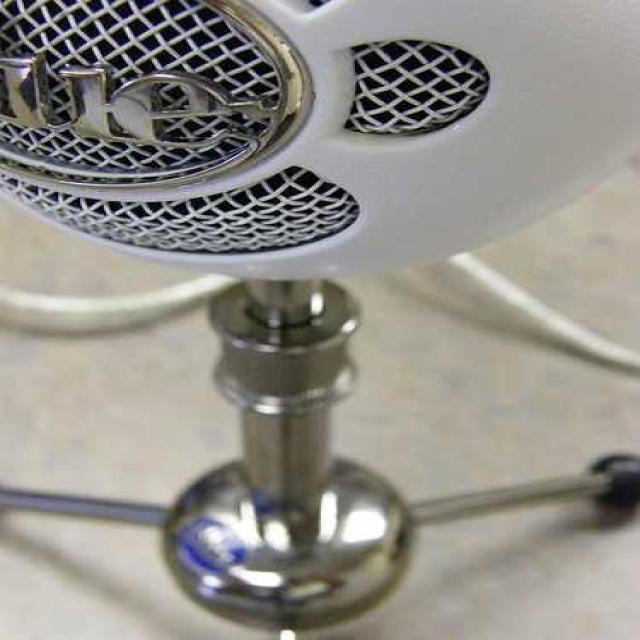microphone: (9, 1, 633, 303)
